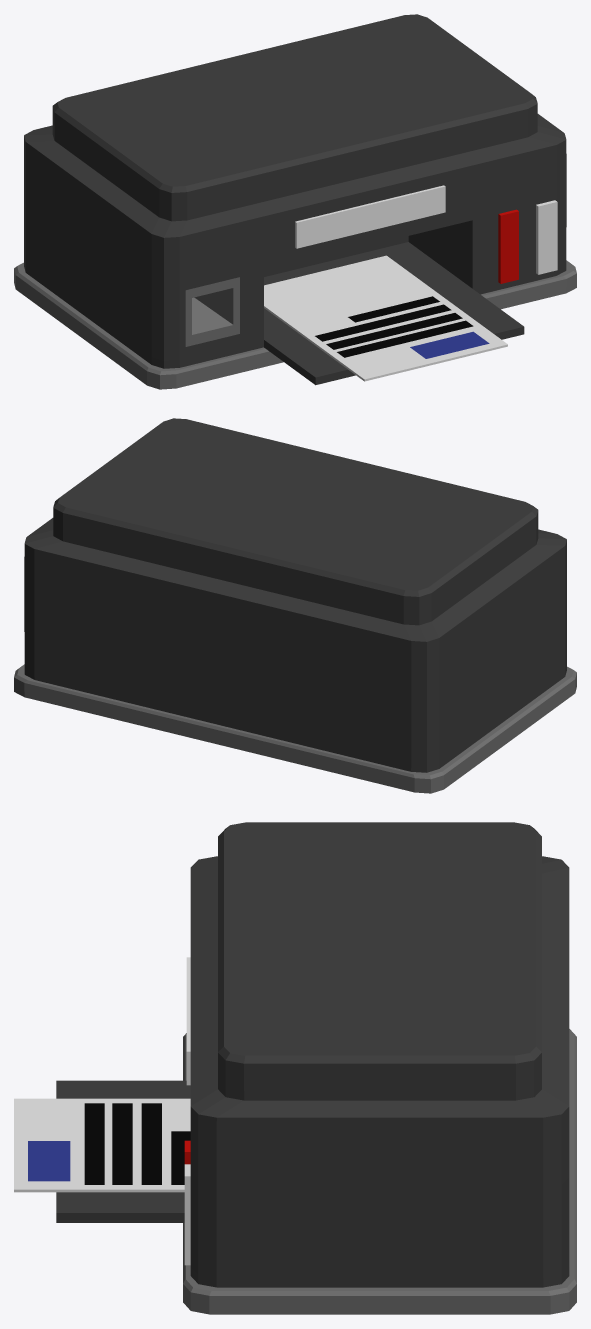
File: P_Printer.fbx
The picture shows the model from 3 angles, top to bottom: view 1: azimuth 30°, elevation 25°; view 2: azimuth 150°, elevation 25°; view 3: azimuth 270°, elevation 25°; orthographic projection. The views are drawn at different scales.
Parts seen in each view (by area): view 1: P_Printer; view 2: P_Printer; view 3: P_Printer.
Boxes of the visible parts, x1=… form: P_Printer: x1=14, y1=14, x2=576, y2=389; P_Printer: x1=14, y1=418, x2=576, y2=793; P_Printer: x1=14, y1=822, x2=576, y2=1314.
Size of the model in its own units: 369 by 324 by 152.
